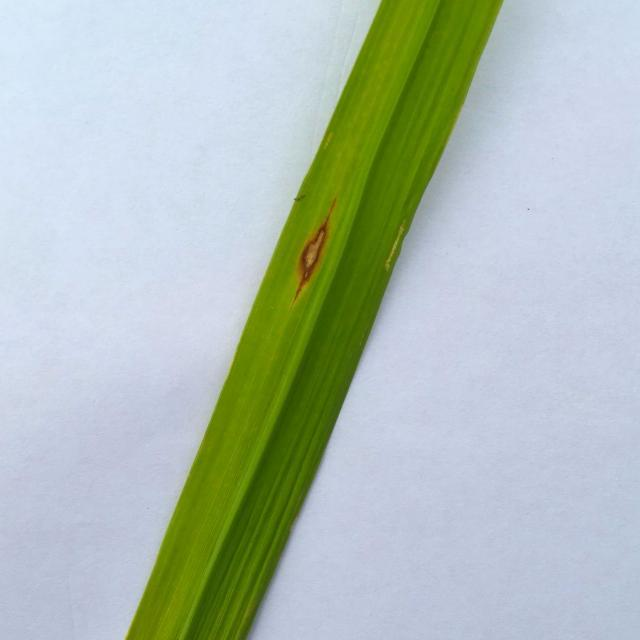Blast: (302, 219, 330, 294)
